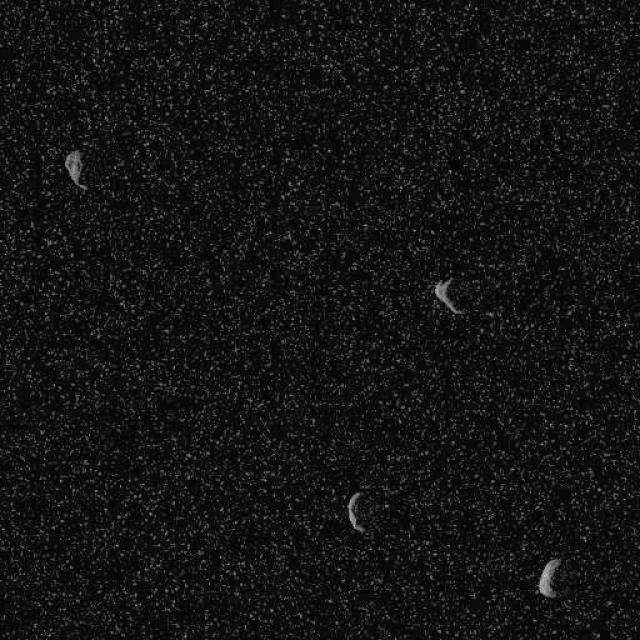D2: (432, 276, 463, 316), (536, 556, 562, 599), (62, 148, 88, 190), (345, 490, 367, 534)
